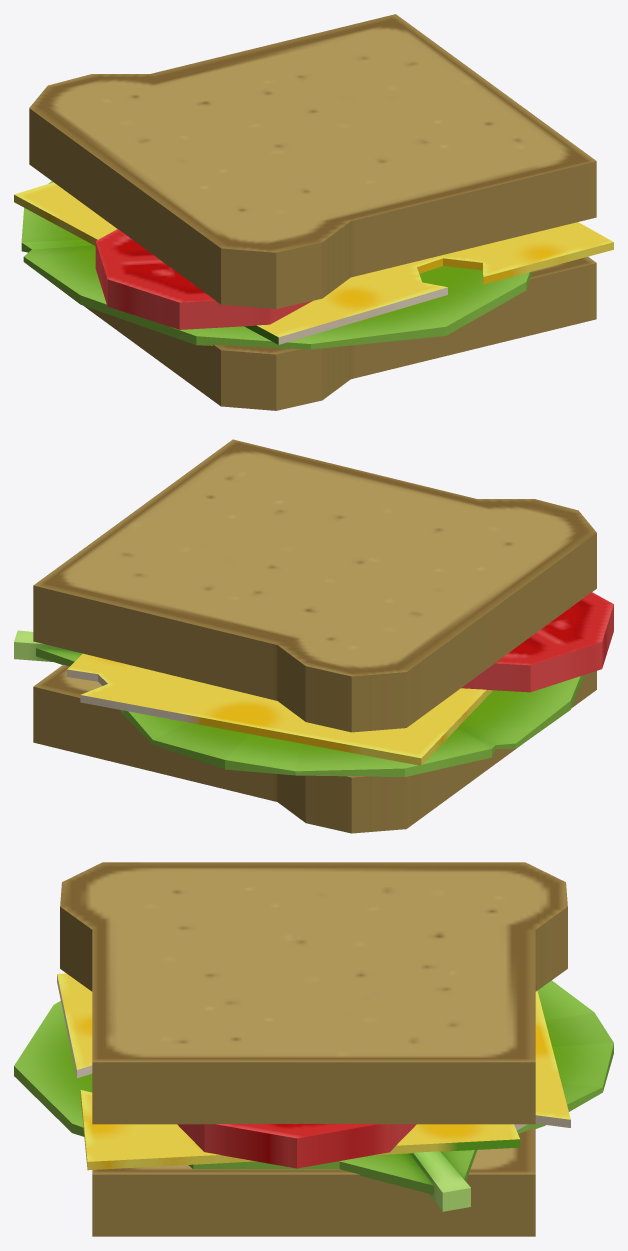
Rendered from Sandwich5.fbx.
3 views of the same model, one above another, from view 1: azimuth 30°, elevation 25°; view 2: azimuth 150°, elevation 25°; view 3: azimuth 270°, elevation 25° (orthographic). The views are drawn at different scales.
Visible parts, largest first — view 1: polySurface27; view 2: polySurface27; view 3: polySurface27.
Part boxes in pixels (x1=…): polySurface27: x1=14, y1=14, x2=613, y2=410; polySurface27: x1=14, y1=439, x2=613, y2=833; polySurface27: x1=14, y1=862, x2=613, y2=1236.
Size of the model in its own units: 1.32 by 0.407 by 1.27.
